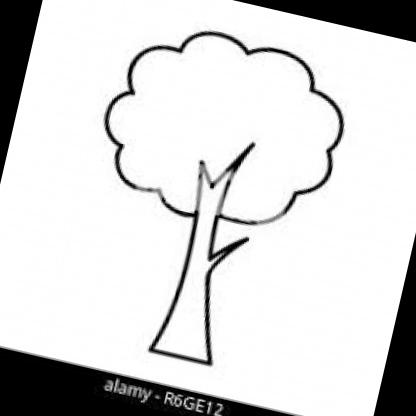branch_sharp: (190, 132, 254, 215)
crown_cloud: (90, 13, 356, 246)
trunk_straight: (162, 223, 233, 342)
